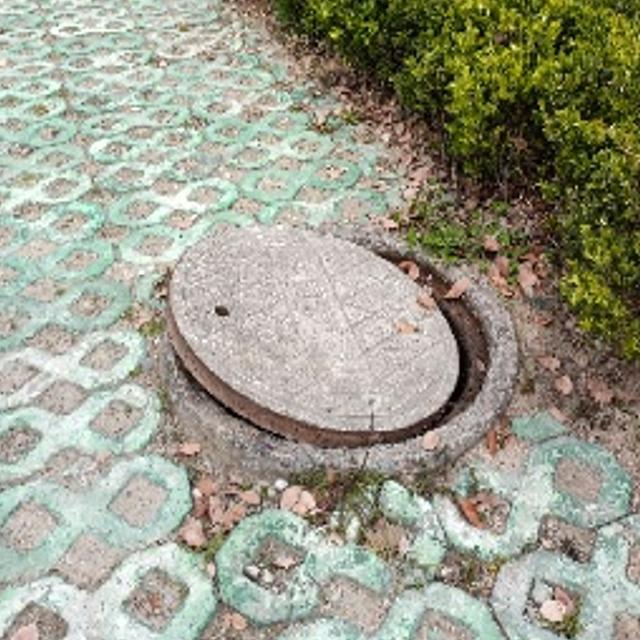uncovered: (167, 222, 517, 467)
